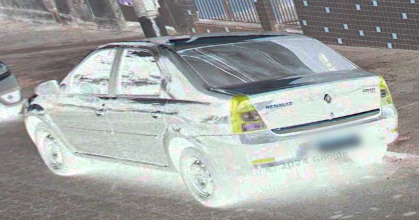car: (23, 32, 400, 207)
